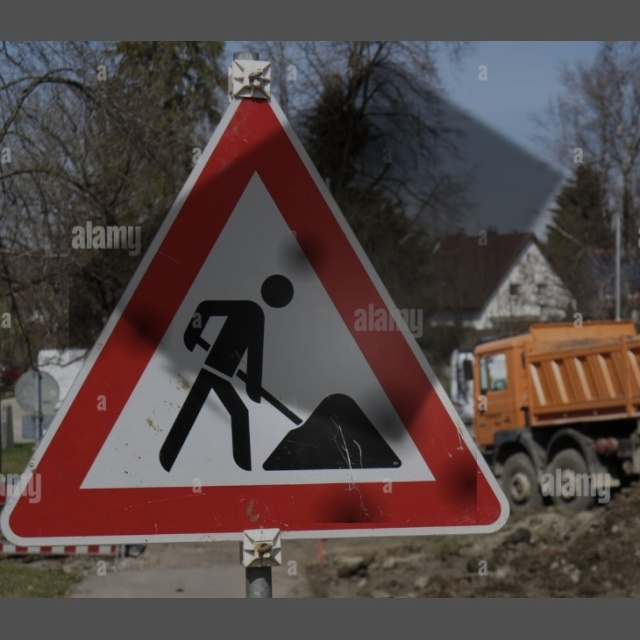Men_at_Work: (69, 106, 477, 523)
